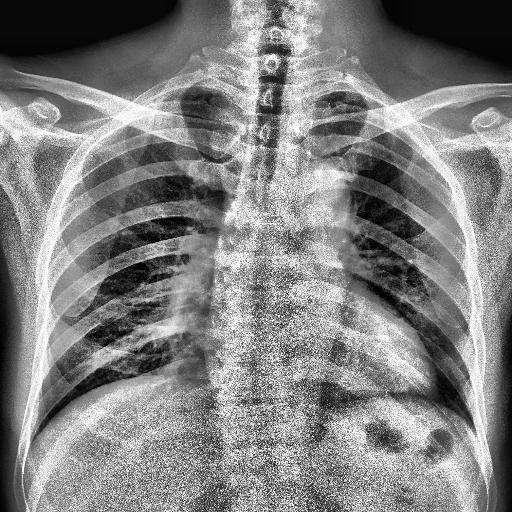0- Aortic enlargement: (274, 155, 354, 250), (269, 160, 353, 246), (268, 160, 350, 240)
3- Cardiomegaly: (202, 327, 438, 405), (199, 328, 437, 402)
